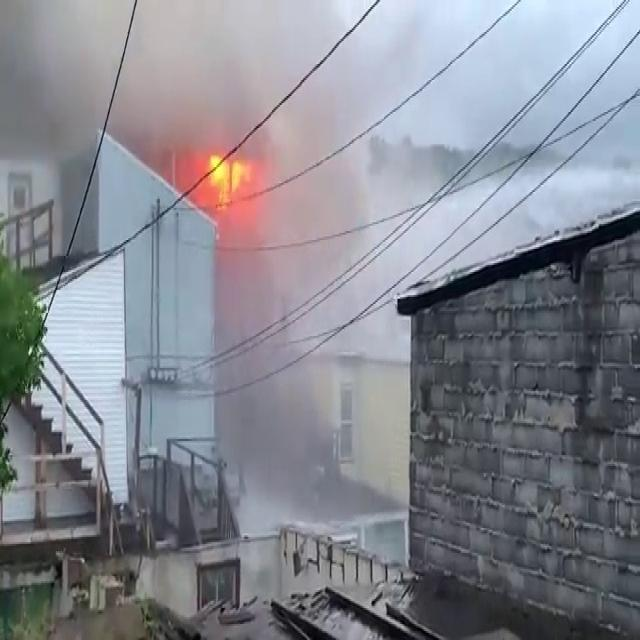Fire: (192, 140, 261, 216)
Smoke: (166, 6, 415, 453), (0, 0, 266, 177)
